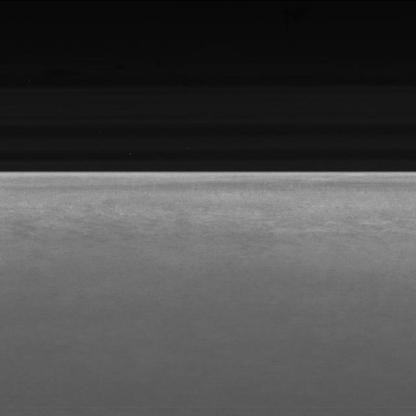silk_spot: (81, 205, 355, 254)
